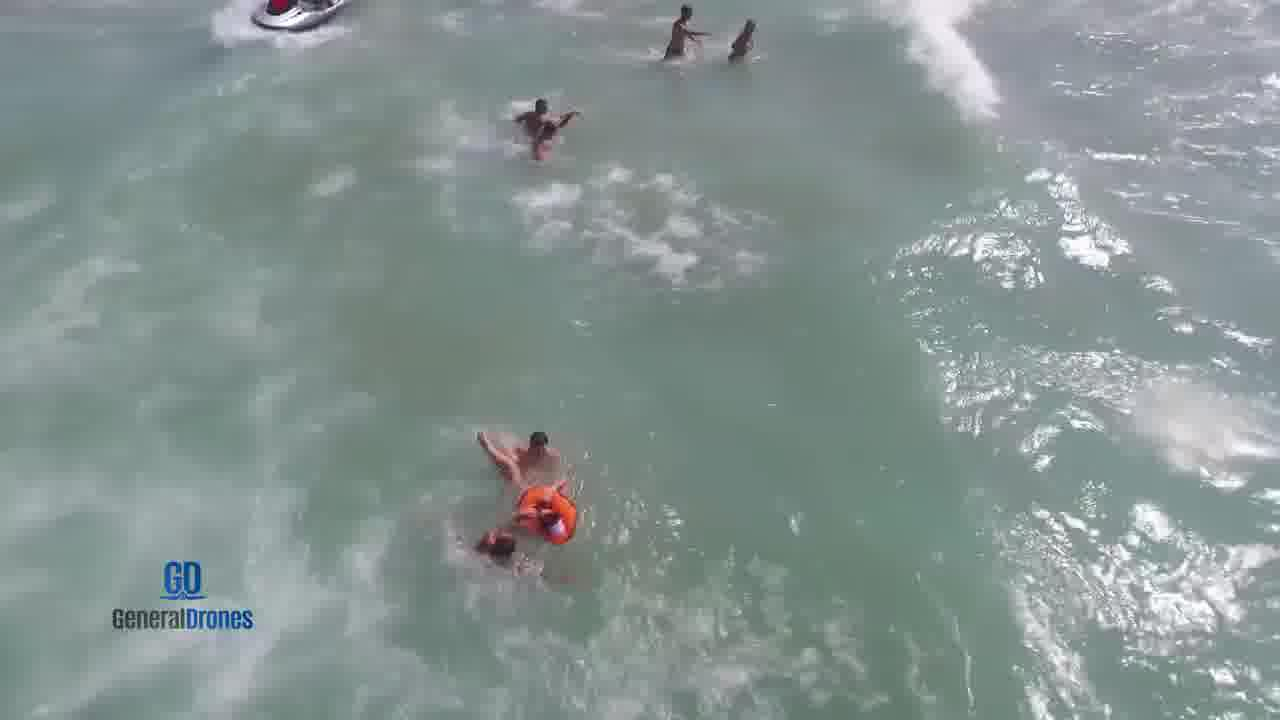human: (466, 519, 527, 574), (517, 482, 588, 526), (520, 422, 577, 463), (724, 15, 772, 59), (658, 7, 700, 55), (529, 123, 571, 158), (527, 95, 556, 113)
